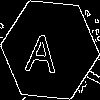A: (25, 25, 59, 73)
